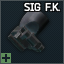MPX retractable stock pipe adapter: (0, 0, 64, 64)
